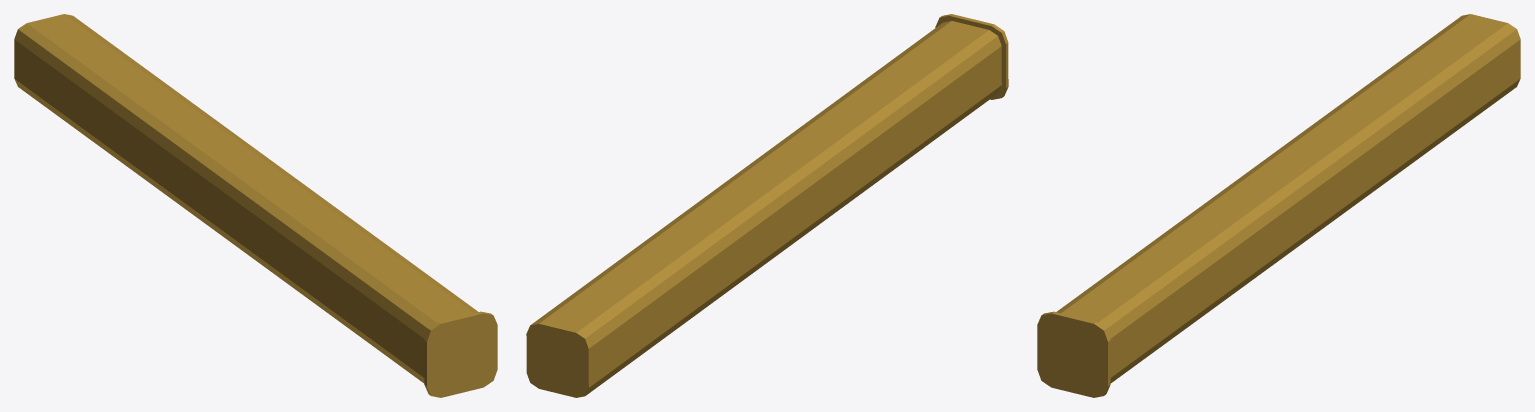
Rendered from SM_Veh_Crane_01_Arm_02.obj.
The picture shows the model from 3 angles, left to right: view 1: azimuth 30°, elevation 25°; view 2: azimuth 150°, elevation 25°; view 3: azimuth 330°, elevation 25°; orthographic projection.
Parts seen in each view (by area): view 1: SM_Veh_Crane_01_Arm_02_0; view 2: SM_Veh_Crane_01_Arm_02_0; view 3: SM_Veh_Crane_01_Arm_02_0.
Part boxes in pixels (x1=…): SM_Veh_Crane_01_Arm_02_0: x1=14, y1=14, x2=497, y2=397; SM_Veh_Crane_01_Arm_02_0: x1=526, y1=14, x2=1008, y2=397; SM_Veh_Crane_01_Arm_02_0: x1=1037, y1=14, x2=1520, y2=397.
Size of the model in its own units: 0.7896 by 0.7896 by 8.05.
Materials: 1 (1 with a texture image).
